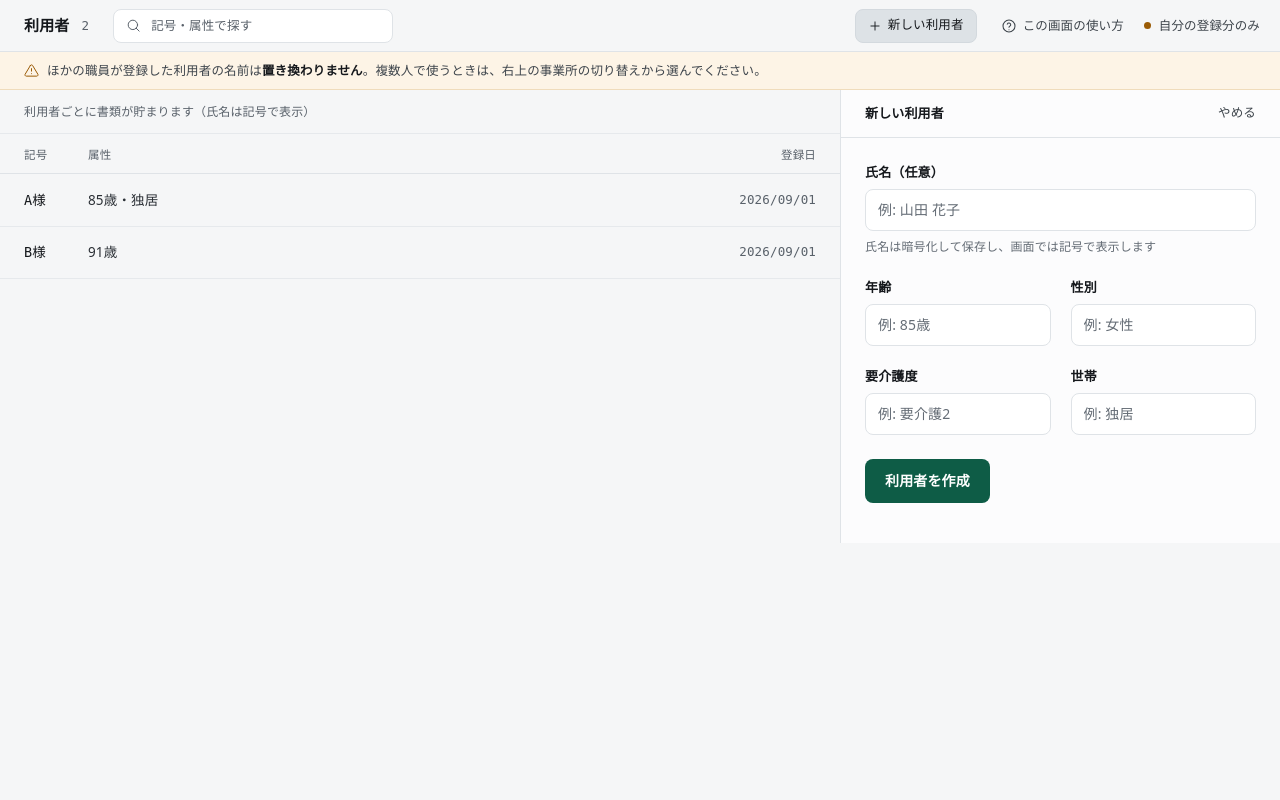
Test: 新しい利用者の登録（/clients?new=1） › 登録に失敗したら、サーバーの文を出して画面は移らない
Click the submit button at (927, 481), box left=865, top=459, right=990, bottom=503
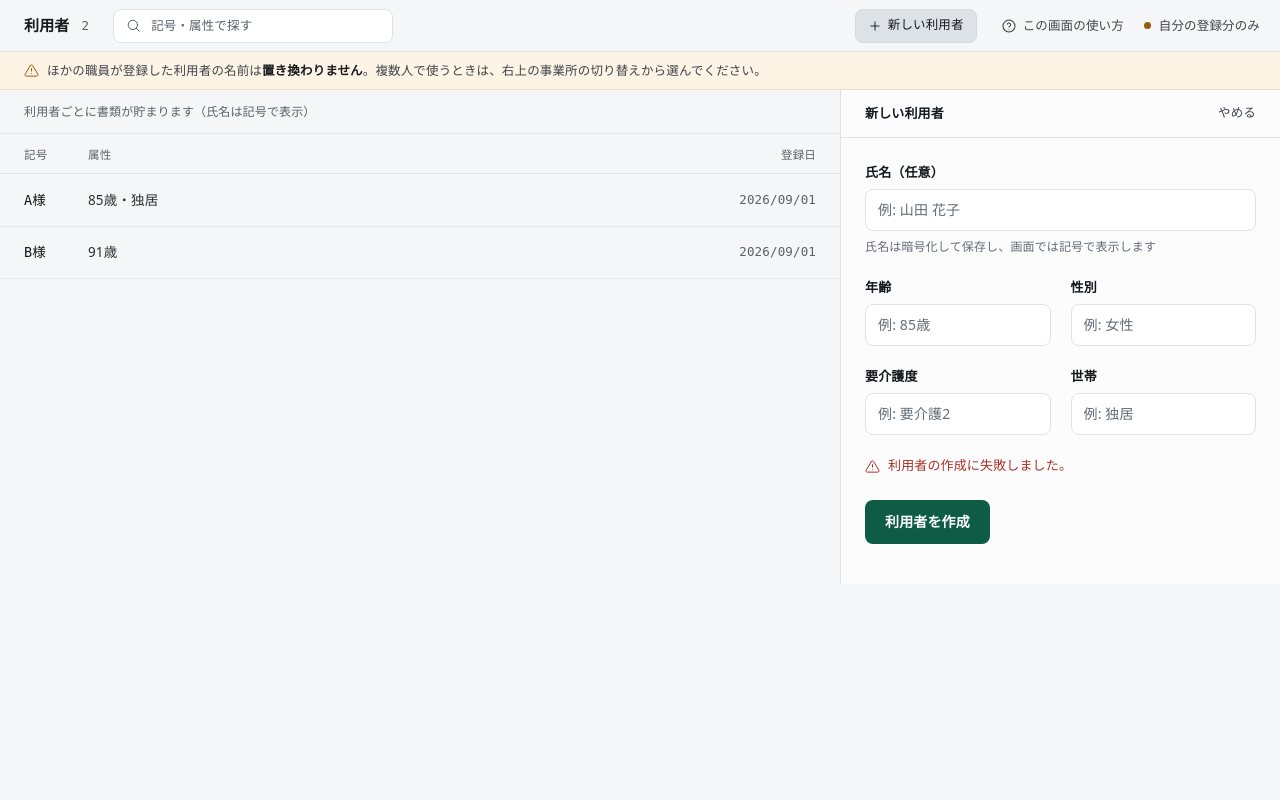
Check: the message "利用者の作成に失敗しました。" is shown, box left=865, top=456, right=1072, bottom=474
